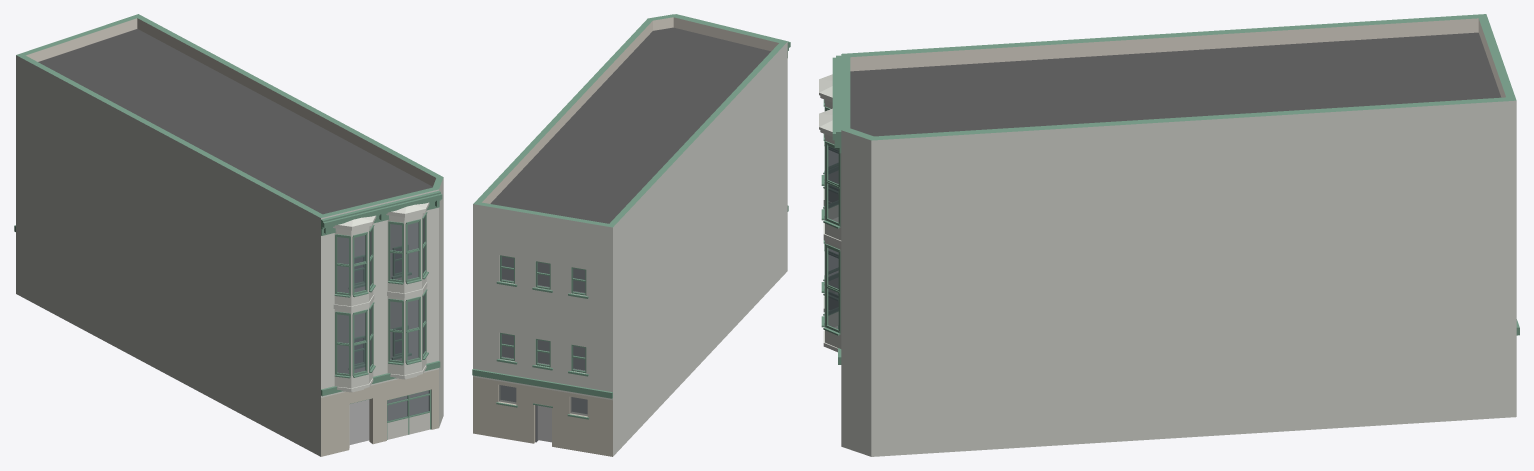
Rendered from exterior.glb.
3 views of the same model, side by side, from view 1: azimuth 30°, elevation 25°; view 2: azimuth 150°, elevation 25°; view 3: azimuth 270°, elevation 25° (orthographic). The views are drawn at different scales.
Parts seen in each view (by area): view 1: shell, roof, bay-glazing-hyb, shadow-proxy, bay-windows-hyb, trim, glazing, storefront, frames; view 2: shell, roof, shadow-proxy, glazing, trim, frames; view 3: shell, roof, bay-glazing-hyb, bay-windows-hyb, trim.
Boxes of the visible parts, box(x1,y1,x2,y2) form: shell: box(16, 14, 443, 456); roof: box(38, 29, 432, 214); bay-glazing-hyb: box(334, 212, 428, 378); shadow-proxy: box(337, 222, 428, 444); bay-windows-hyb: box(333, 202, 429, 392); trim: box(14, 190, 442, 396); glazing: box(354, 248, 429, 421); storefront: box(349, 389, 431, 447); frames: box(354, 245, 408, 365); shell: box(473, 14, 787, 456); roof: box(490, 27, 770, 223); shadow-proxy: box(501, 256, 587, 442); glazing: box(499, 256, 587, 415); trim: box(472, 14, 790, 419); frames: box(500, 255, 586, 373); shell: box(841, 14, 1516, 456); roof: box(850, 32, 1501, 136); bay-glazing-hyb: box(821, 99, 840, 335); bay-windows-hyb: box(819, 74, 841, 352); trim: box(832, 55, 1519, 364).
Bounding box in the file's own units: 11.13 × 12.96 × 26.01.
